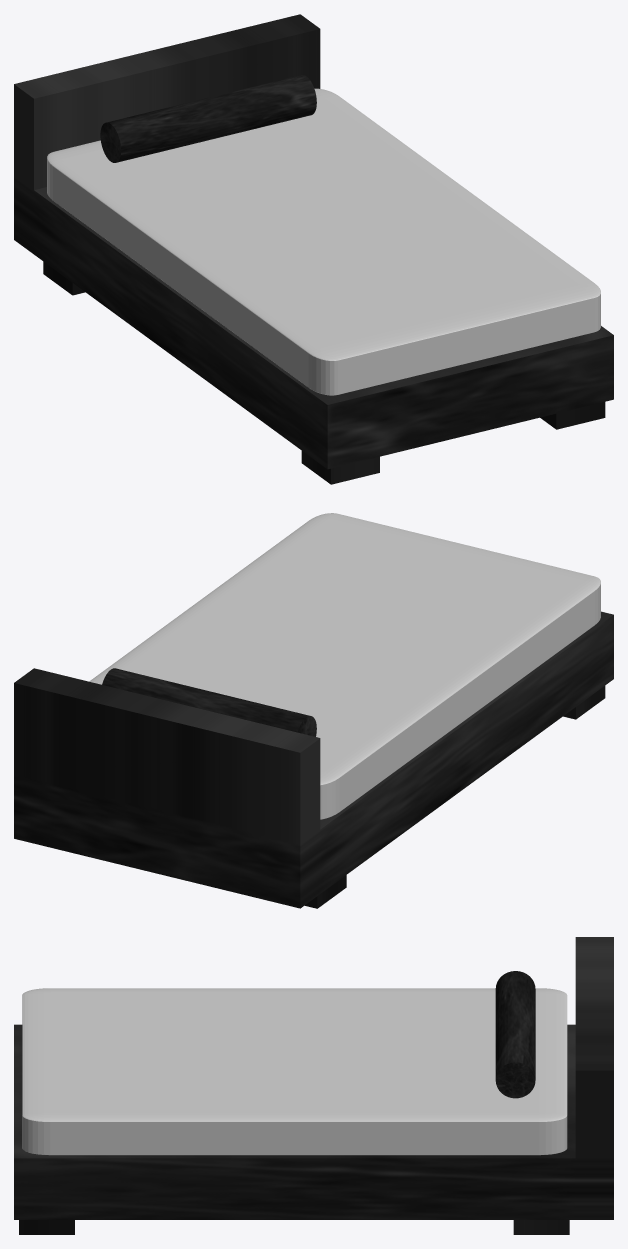
The model's file is ベッド.fbx.
3 renders of one model, top to bottom at view 1: azimuth 30°, elevation 25°; view 2: azimuth 150°, elevation 25°; view 3: azimuth 270°, elevation 25°, orthographic. The views are drawn at different scales.
Parts seen in each view (by area): view 1: ベット; view 2: ベット; view 3: ベット.
Part boxes in pixels (x1=…): ベット: x1=14, y1=14, x2=613, y2=484; ベット: x1=14, y1=513, x2=613, y2=908; ベット: x1=14, y1=937, x2=613, y2=1234.
Size of the model in its own units: 200 by 116 by 379.
